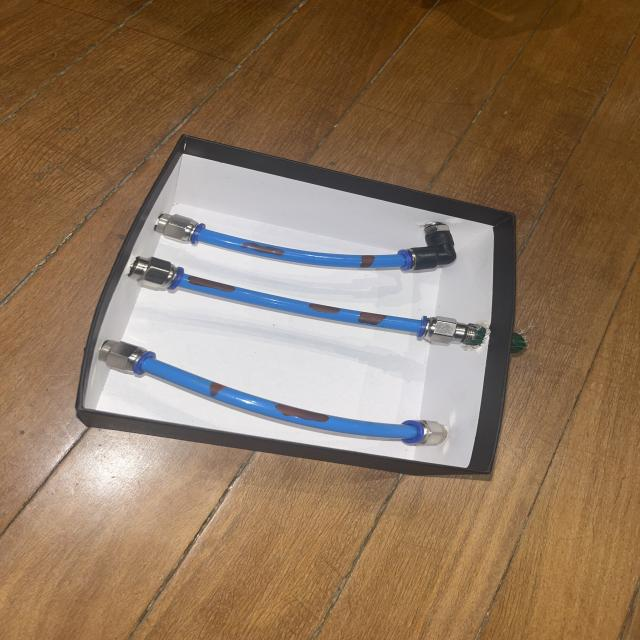hose_damage: (271, 402, 333, 424), (184, 274, 239, 295), (238, 240, 288, 257), (356, 310, 390, 328), (307, 301, 342, 316), (208, 380, 229, 398), (359, 254, 376, 269)
